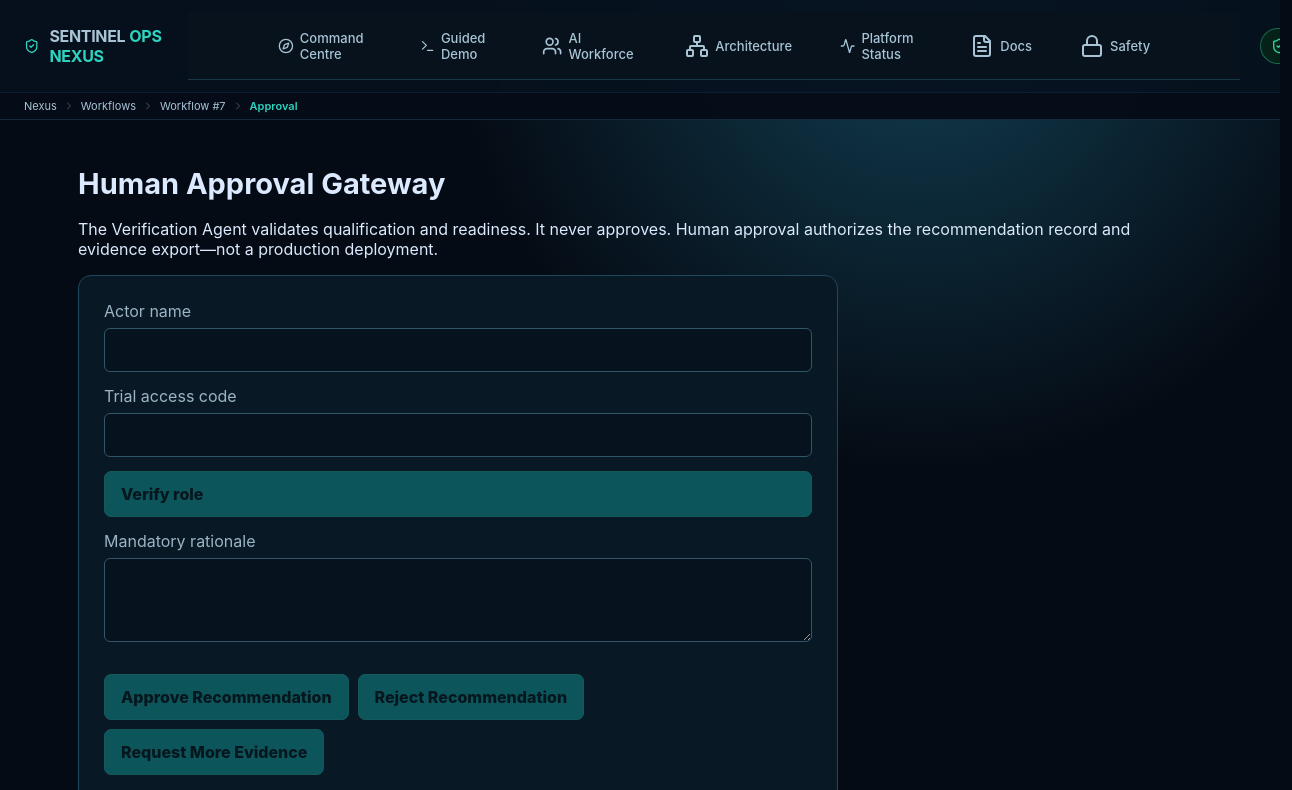
Test: upgrade routes and authorization UX › shows Intern role and keeps approval disabled
Type "Intern User" into the field labelled "Actor name" at coordinates (458, 350), box x1=104 y1=328 x2=812 y2=372
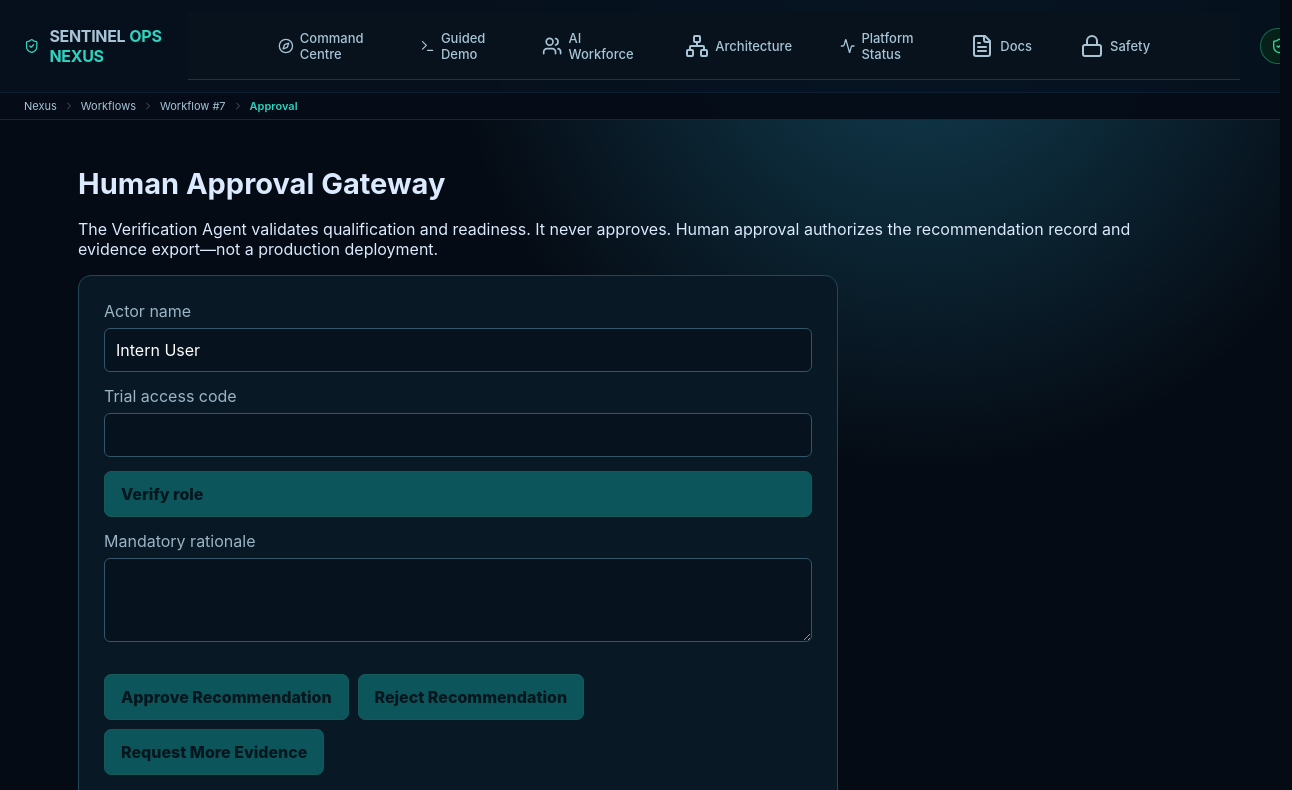
Type "0000" into the password field labelled "Trial access code" at coordinates (458, 435), box x1=104 y1=413 x2=812 y2=457
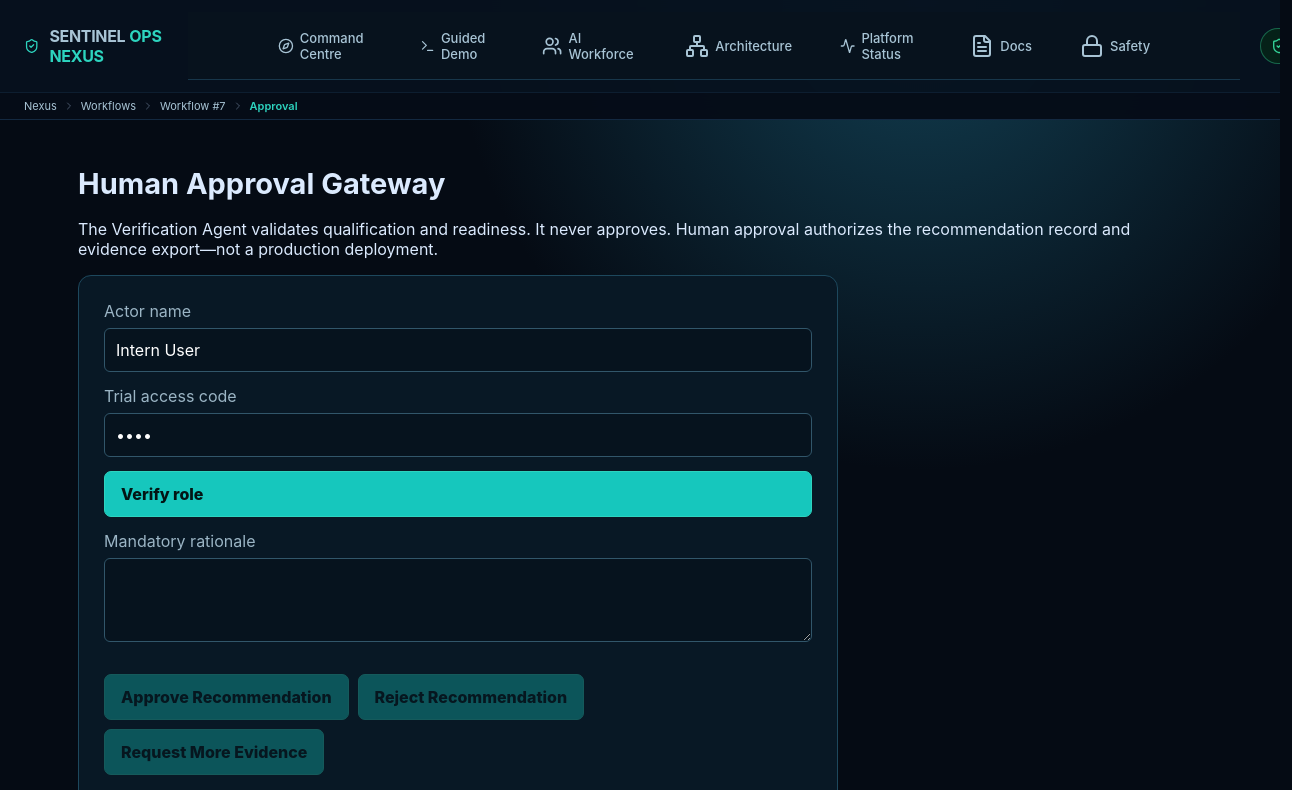
Click the button "Verify role" at coordinates (162, 494), box x1=104 y1=471 x2=812 y2=517
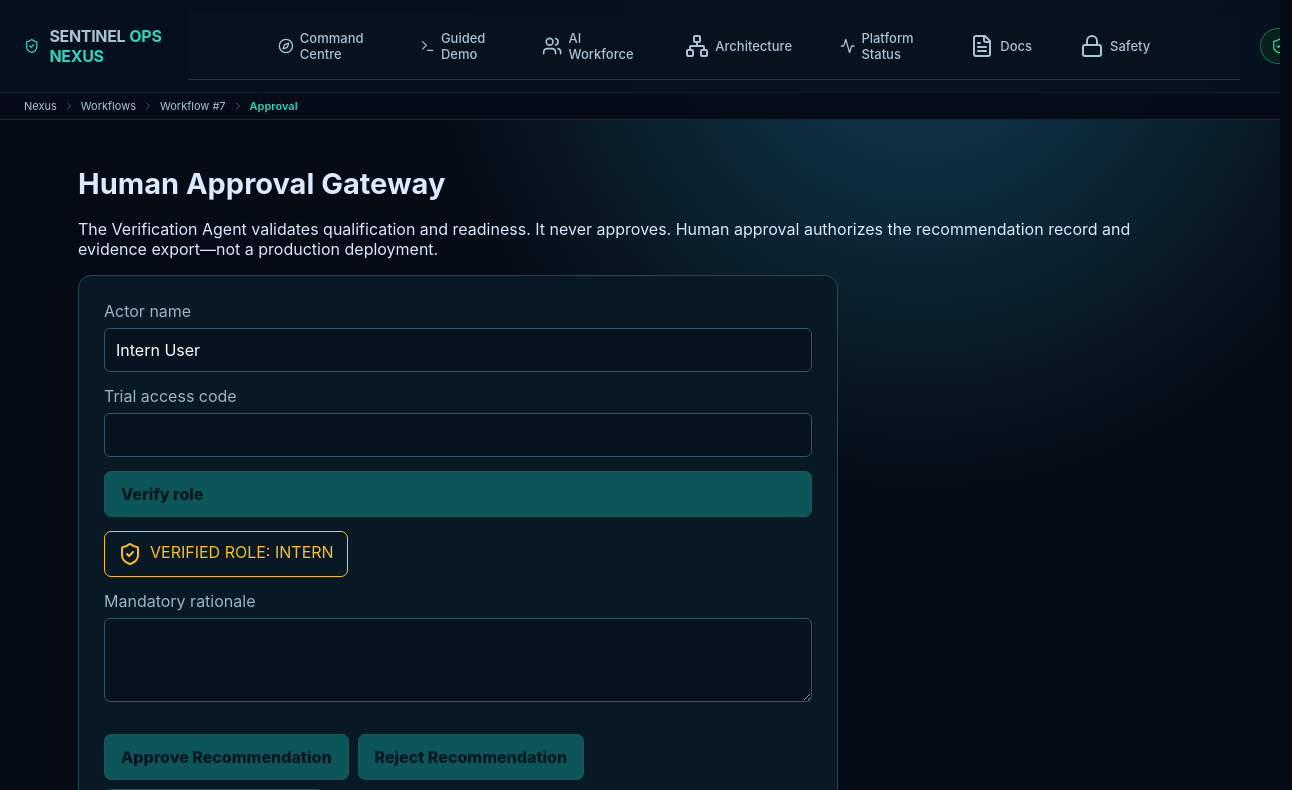
Expected: the button "Approve Recommendation" is disabled, x1=104 y1=734 x2=348 y2=780
Result: the text "VERIFIED ROLE: INTERN" is shown at x1=104 y1=531 x2=348 y2=577
